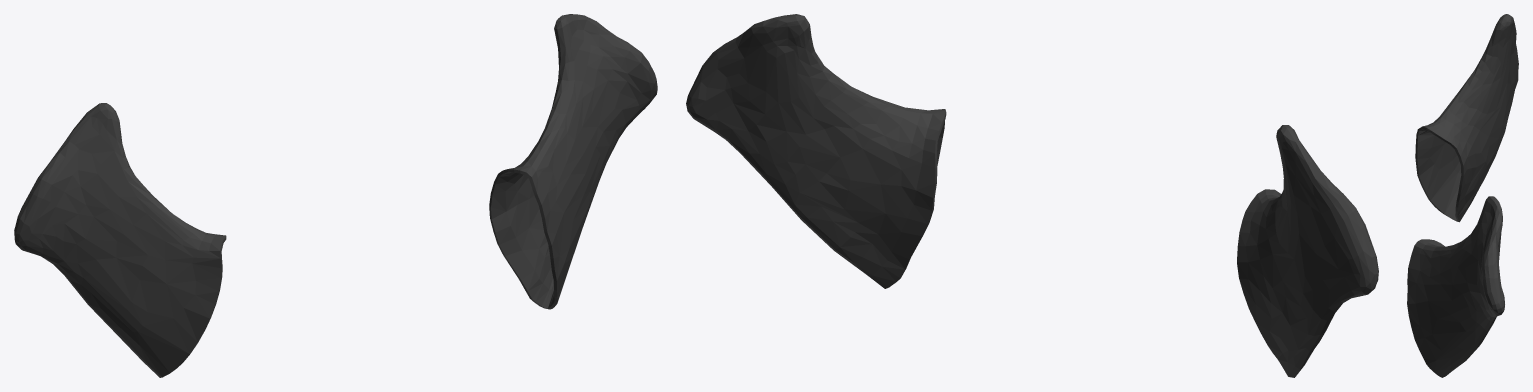
Rendered from l1_transverse_process.glb.
3 renders of one model, left to right at view 1: azimuth 30°, elevation 25°; view 2: azimuth 150°, elevation 25°; view 3: azimuth 270°, elevation 25°, orthographic. The views are drawn at different scales.
Parts seen in each view (by area): view 1: l1_transverse_process; view 2: l1_transverse_process; view 3: l1_transverse_process.
Boxes of the visible parts, x1,y1,x2,y2 form: l1_transverse_process: (14,14,657,377); l1_transverse_process: (686,14,1378,377); l1_transverse_process: (1407,14,1518,377).
Bounding box in the file's own units: 50.56 × 21 × 10.08.
Materials: 1 (1 with a texture image).
